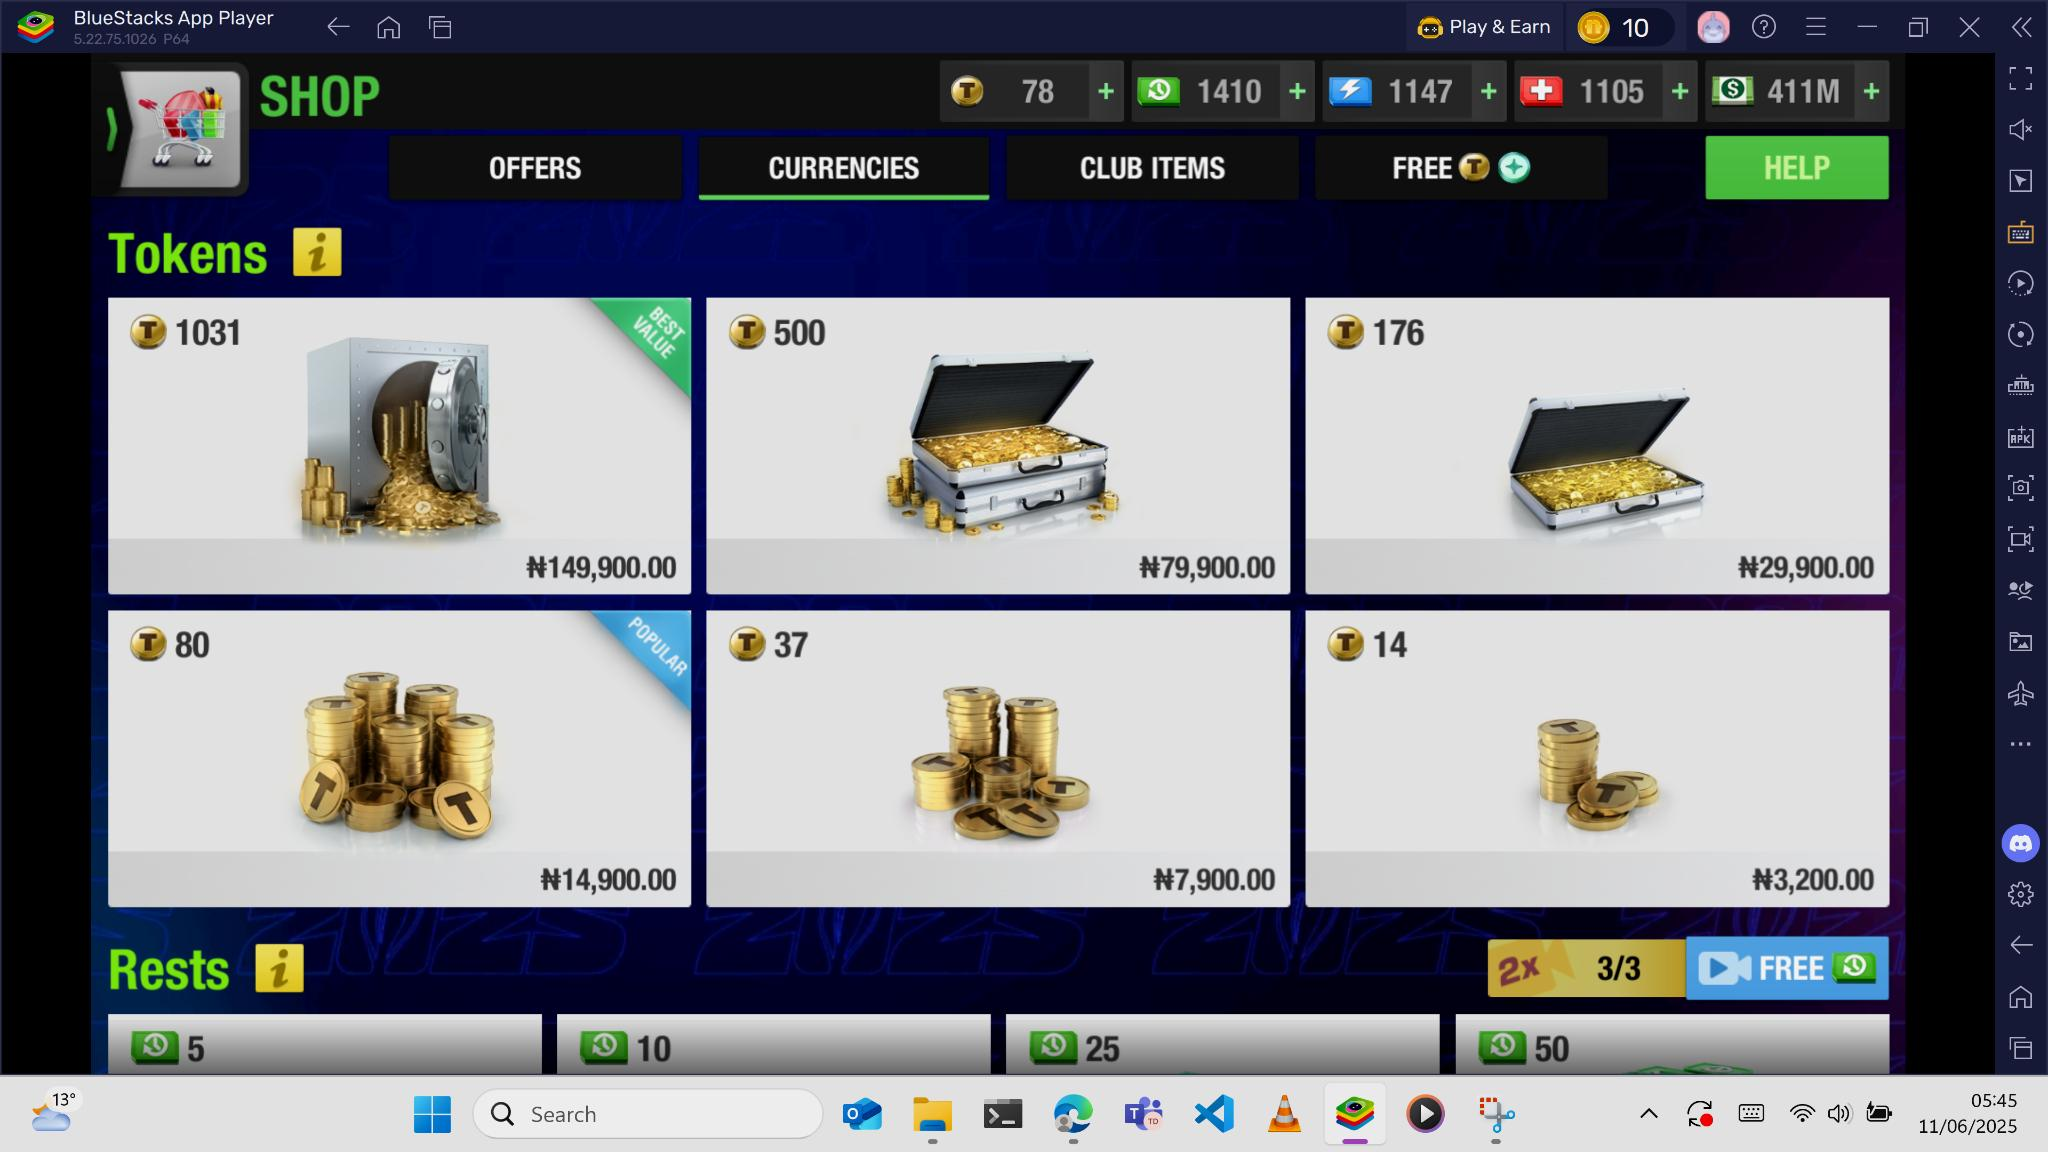watch_ads_general: (1687, 935, 1889, 1001)
